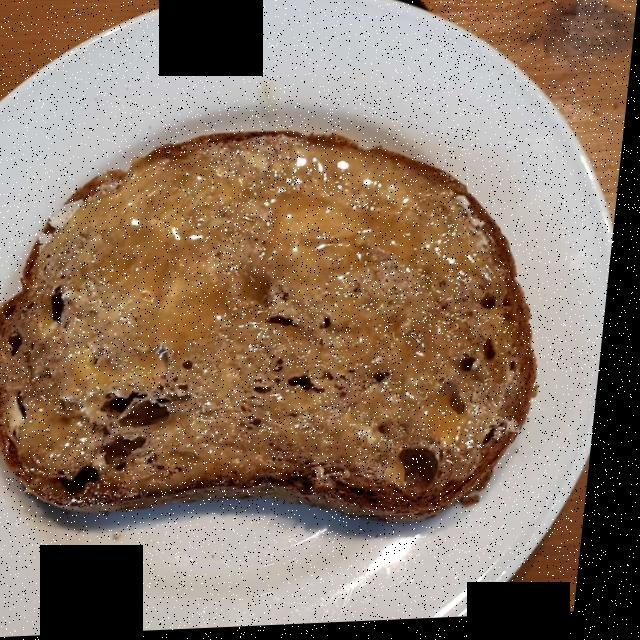bread: (0, 141, 537, 520)
honey: (29, 154, 526, 480)
